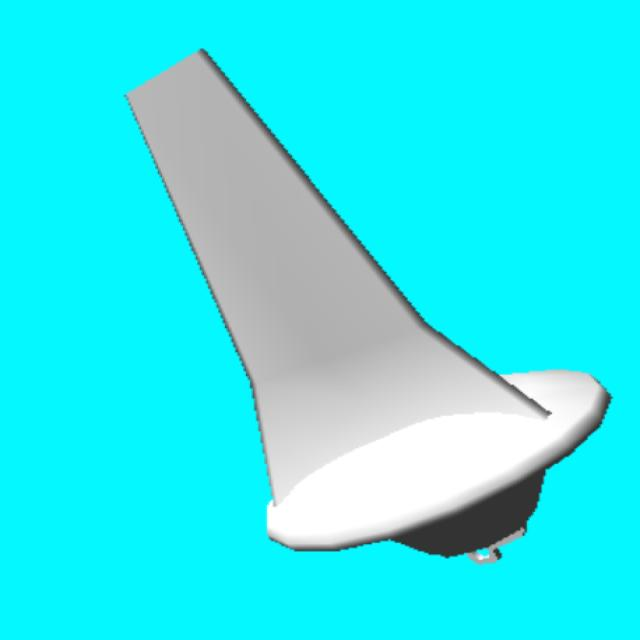WhiteBuoy: (128, 51, 610, 561)
